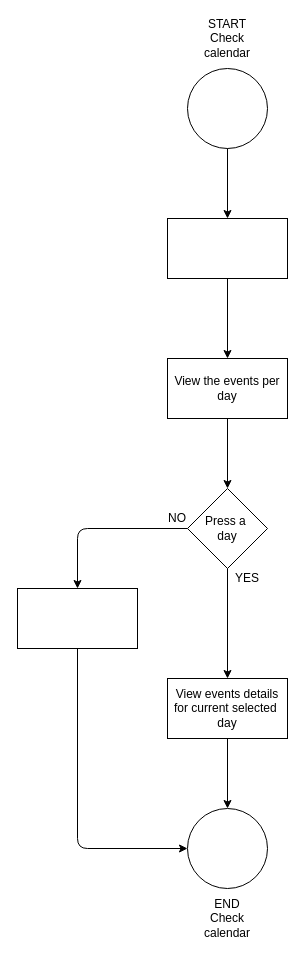
Some shapes in this 305 by 957 pixel diagram are drawn without their labels. Here are the shapes that lost their labels. From the top down, the centre of each, then its label:
[227,248]: Apply calendar filter
[77,618]: Exit "Calendar" screen
